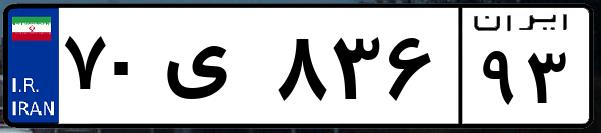0: (110, 28, 158, 98)
3: (330, 28, 385, 110), (525, 38, 570, 115)
6: (385, 28, 445, 110)
7: (57, 26, 110, 100)
8: (270, 28, 330, 110)
9: (475, 38, 525, 113)
ی: (158, 20, 270, 120)
